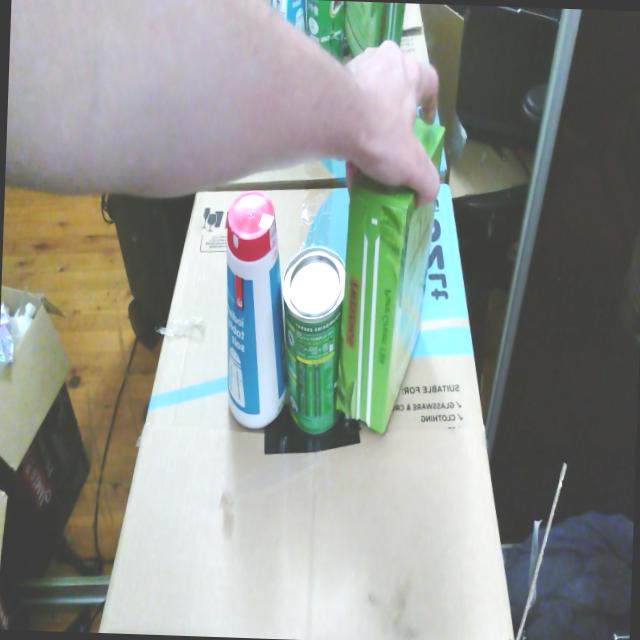nestle_milo_tin: (282, 245, 345, 434)
twinings_greentea_box: (335, 170, 436, 433), (413, 116, 444, 173)
woolworths_salt_bottle: (226, 191, 285, 428)
